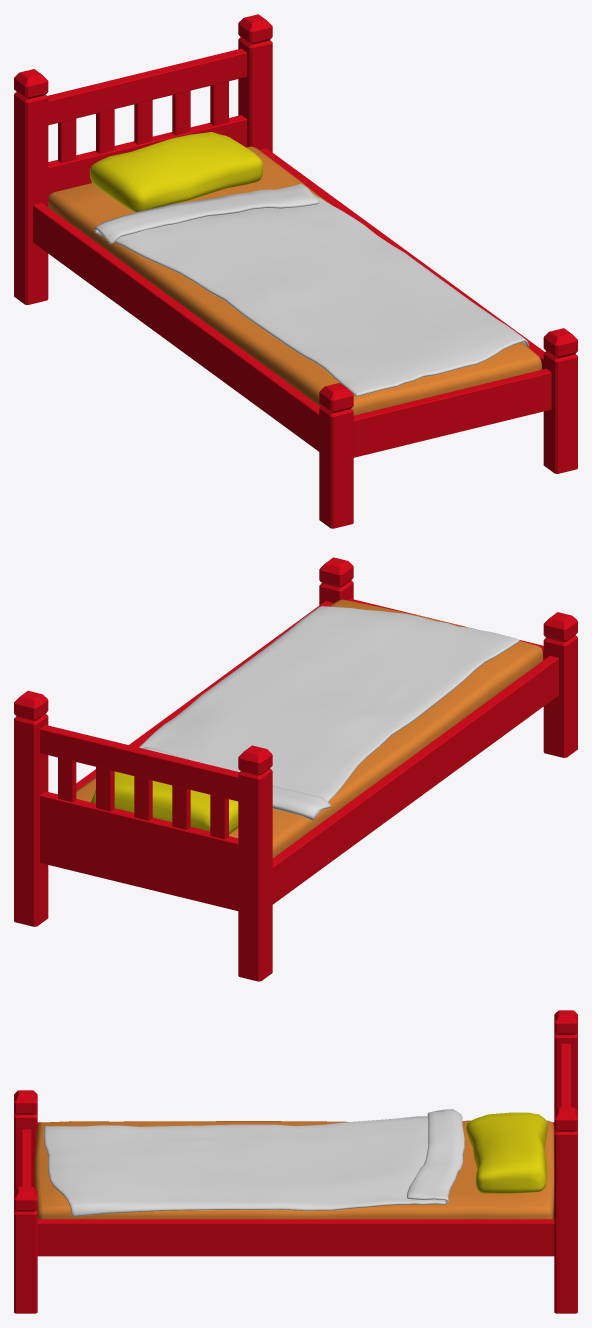
Rendered from Bed.fbx.
The picture shows the model from 3 angles, top to bottom: view 1: azimuth 30°, elevation 25°; view 2: azimuth 150°, elevation 25°; view 3: azimuth 270°, elevation 25°; orthographic projection. The views are drawn at different scales.
Visible parts, largest first — view 1: Bed.001; view 2: Bed.001; view 3: Bed.001.
Part boxes in pixels (bbox=[...]): Bed.001: bbox=[14, 14, 577, 528]; Bed.001: bbox=[14, 557, 577, 981]; Bed.001: bbox=[14, 1010, 577, 1313].
Size of the model in its own units: 104 by 90.19 by 232.
